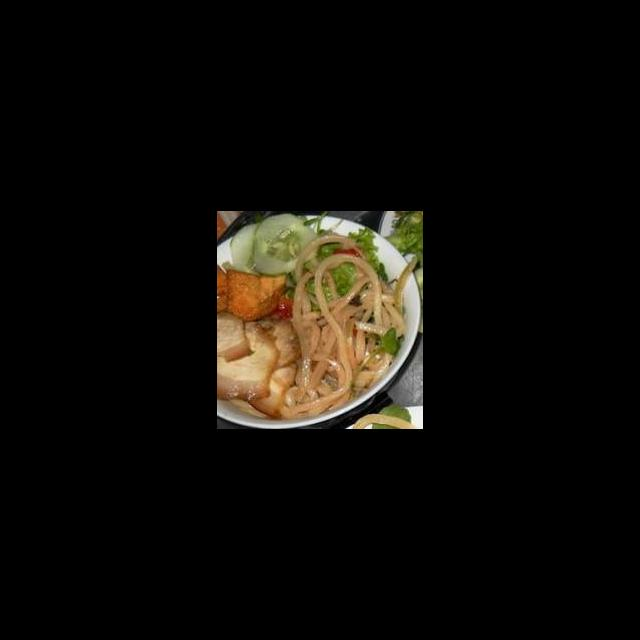banh da: (223, 268, 290, 323), (218, 260, 236, 317)
mi: (276, 230, 407, 421)
mi quang: (219, 225, 419, 429)
thit heo: (218, 310, 304, 421), (218, 314, 283, 402), (218, 308, 258, 365)
